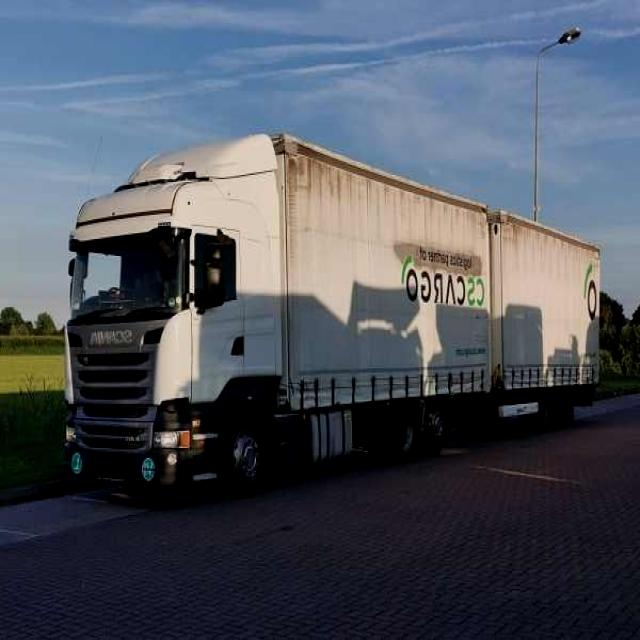Truck: (62, 124, 606, 509)
